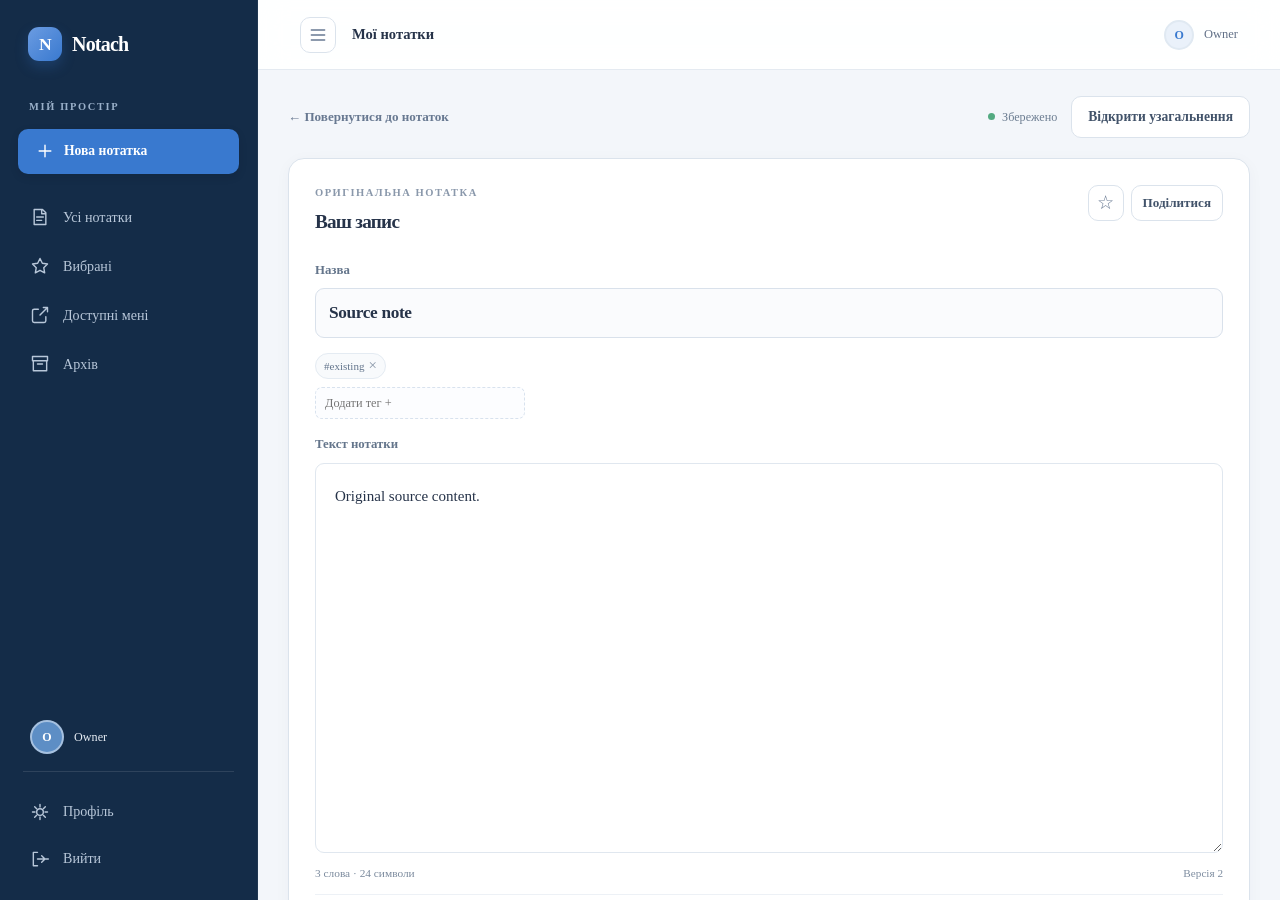
it: note summary workspace › restores the latest summary and opens history without generating again
Expected: the field showing "Source note" is shown, top-left (315, 288), bottom-right (1223, 338)
Step 1. Click the button "Відкрити узагальнення" → (1161, 117), box top-left (1071, 96), bottom-right (1250, 138)
(page scrolled)
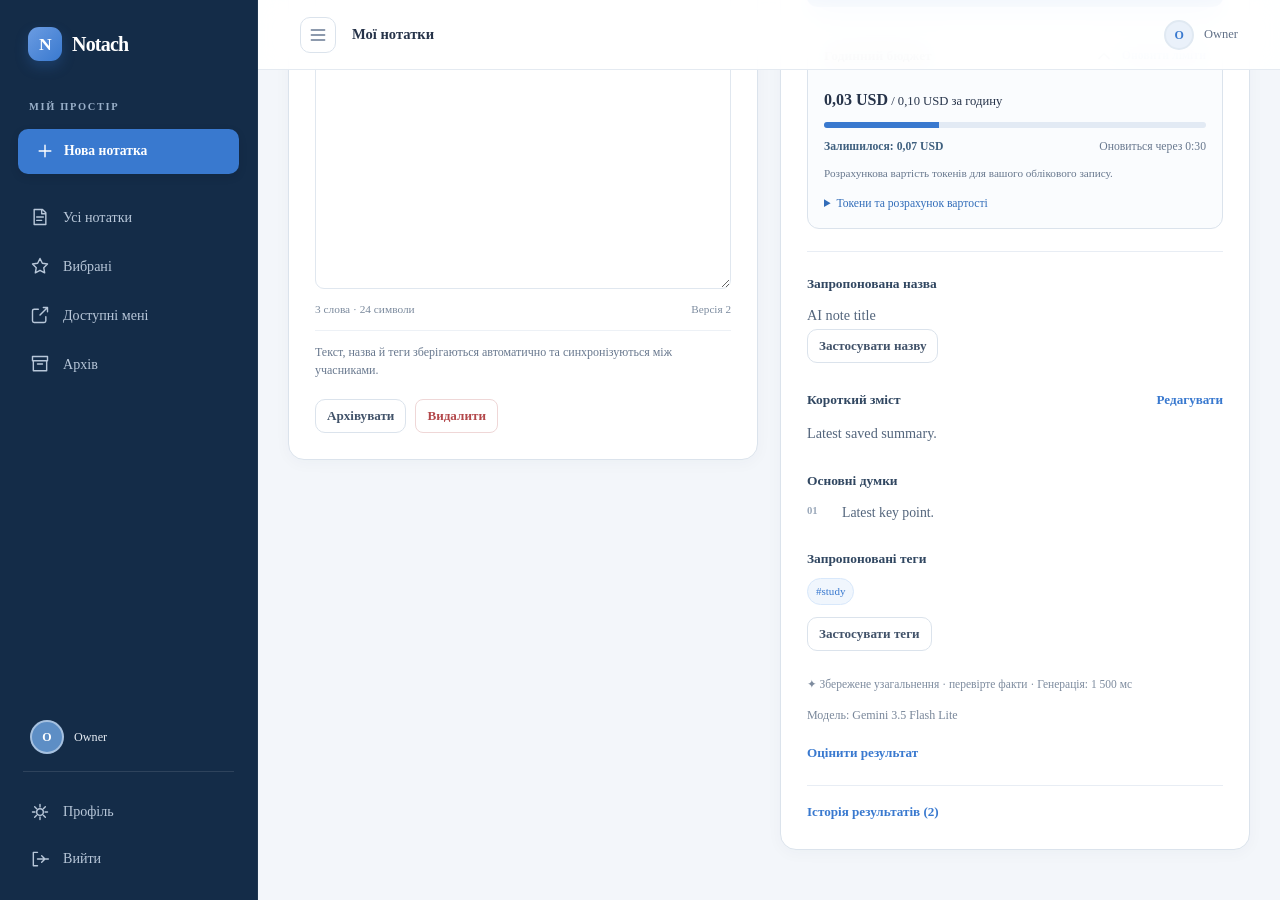
Expected: the text "Latest saved summary." is shown, top-left (807, 425), bottom-right (937, 441)
Step 2. Click the button "Історія результатів (2)" → (873, 811), box top-left (807, 785), bottom-right (1223, 823)
(page scrolled)
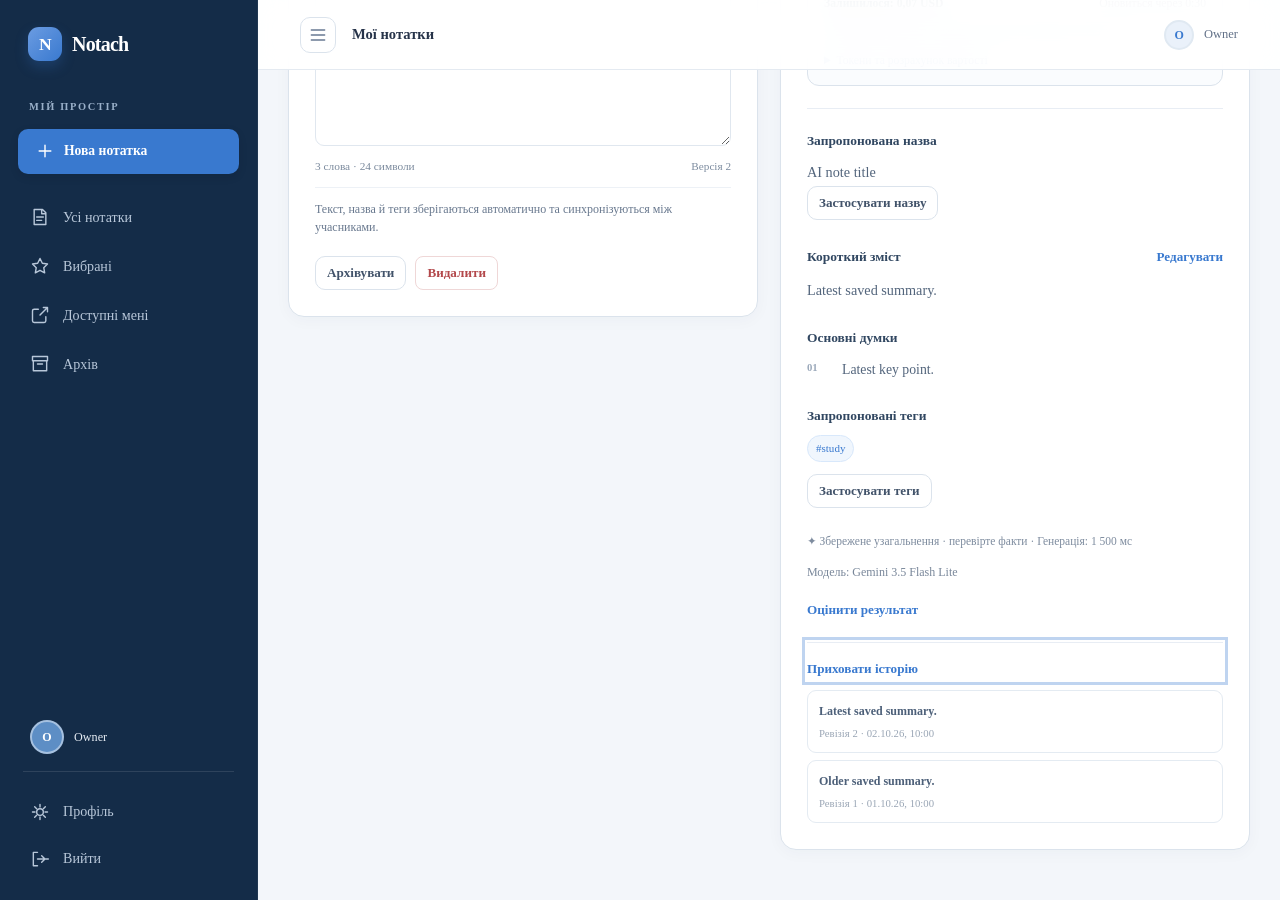
Step 3. Click the button "Older saved summary. Ревізія 1 · 01.10.26, 10:00" → (877, 781), box top-left (807, 760), bottom-right (1223, 823)
(page scrolled)
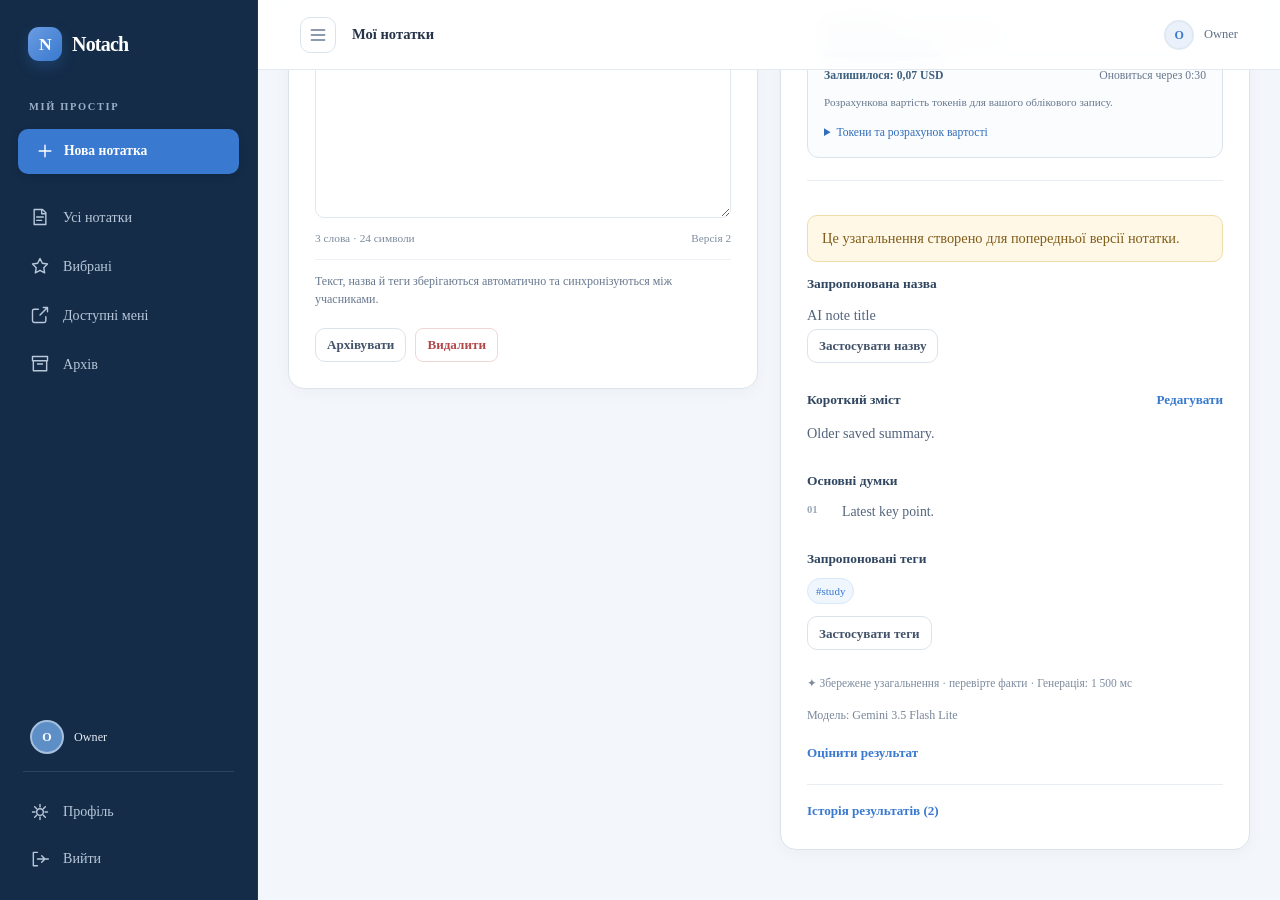
Expected: the text "Older saved summary." is shown, top-left (807, 425), bottom-right (934, 441)
